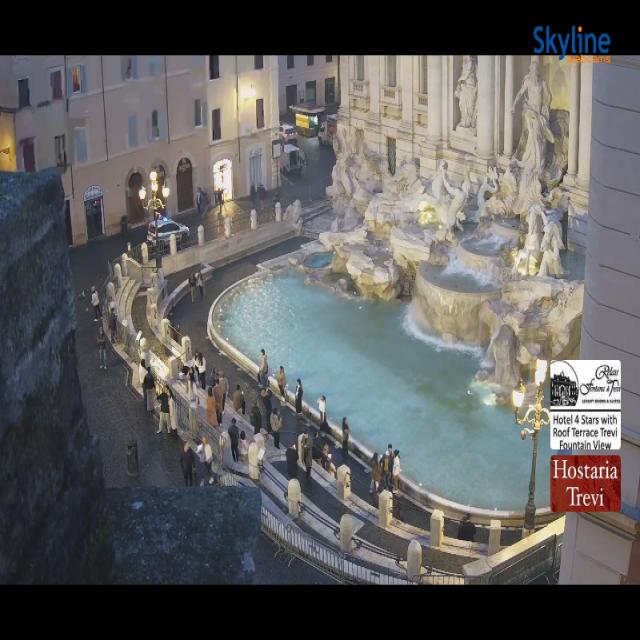person: (198, 437, 213, 484), (157, 385, 170, 434), (381, 444, 393, 490), (181, 443, 194, 485), (168, 386, 178, 437), (144, 366, 155, 412), (270, 407, 282, 449), (458, 513, 475, 542), (228, 418, 239, 462), (302, 430, 312, 478), (261, 389, 272, 432), (312, 430, 325, 464), (286, 442, 298, 478), (232, 384, 245, 416), (370, 453, 380, 494), (207, 388, 218, 425), (213, 379, 222, 424), (139, 359, 147, 409), (97, 326, 106, 370), (250, 400, 261, 435), (196, 351, 206, 389), (220, 371, 229, 412), (277, 366, 286, 405), (393, 450, 401, 492), (342, 417, 350, 459), (109, 302, 117, 343), (92, 286, 101, 322), (259, 349, 267, 388), (318, 396, 327, 430), (187, 366, 195, 402), (324, 453, 336, 477), (296, 378, 303, 419), (239, 431, 248, 462), (188, 272, 196, 302), (321, 444, 330, 469), (209, 366, 219, 387), (196, 271, 203, 299), (170, 324, 179, 343), (219, 190, 223, 218)
